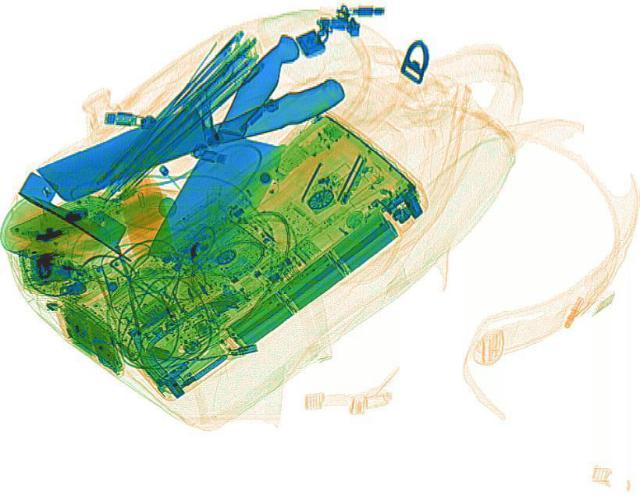Knife: (140, 31, 348, 271), (30, 57, 352, 204)
